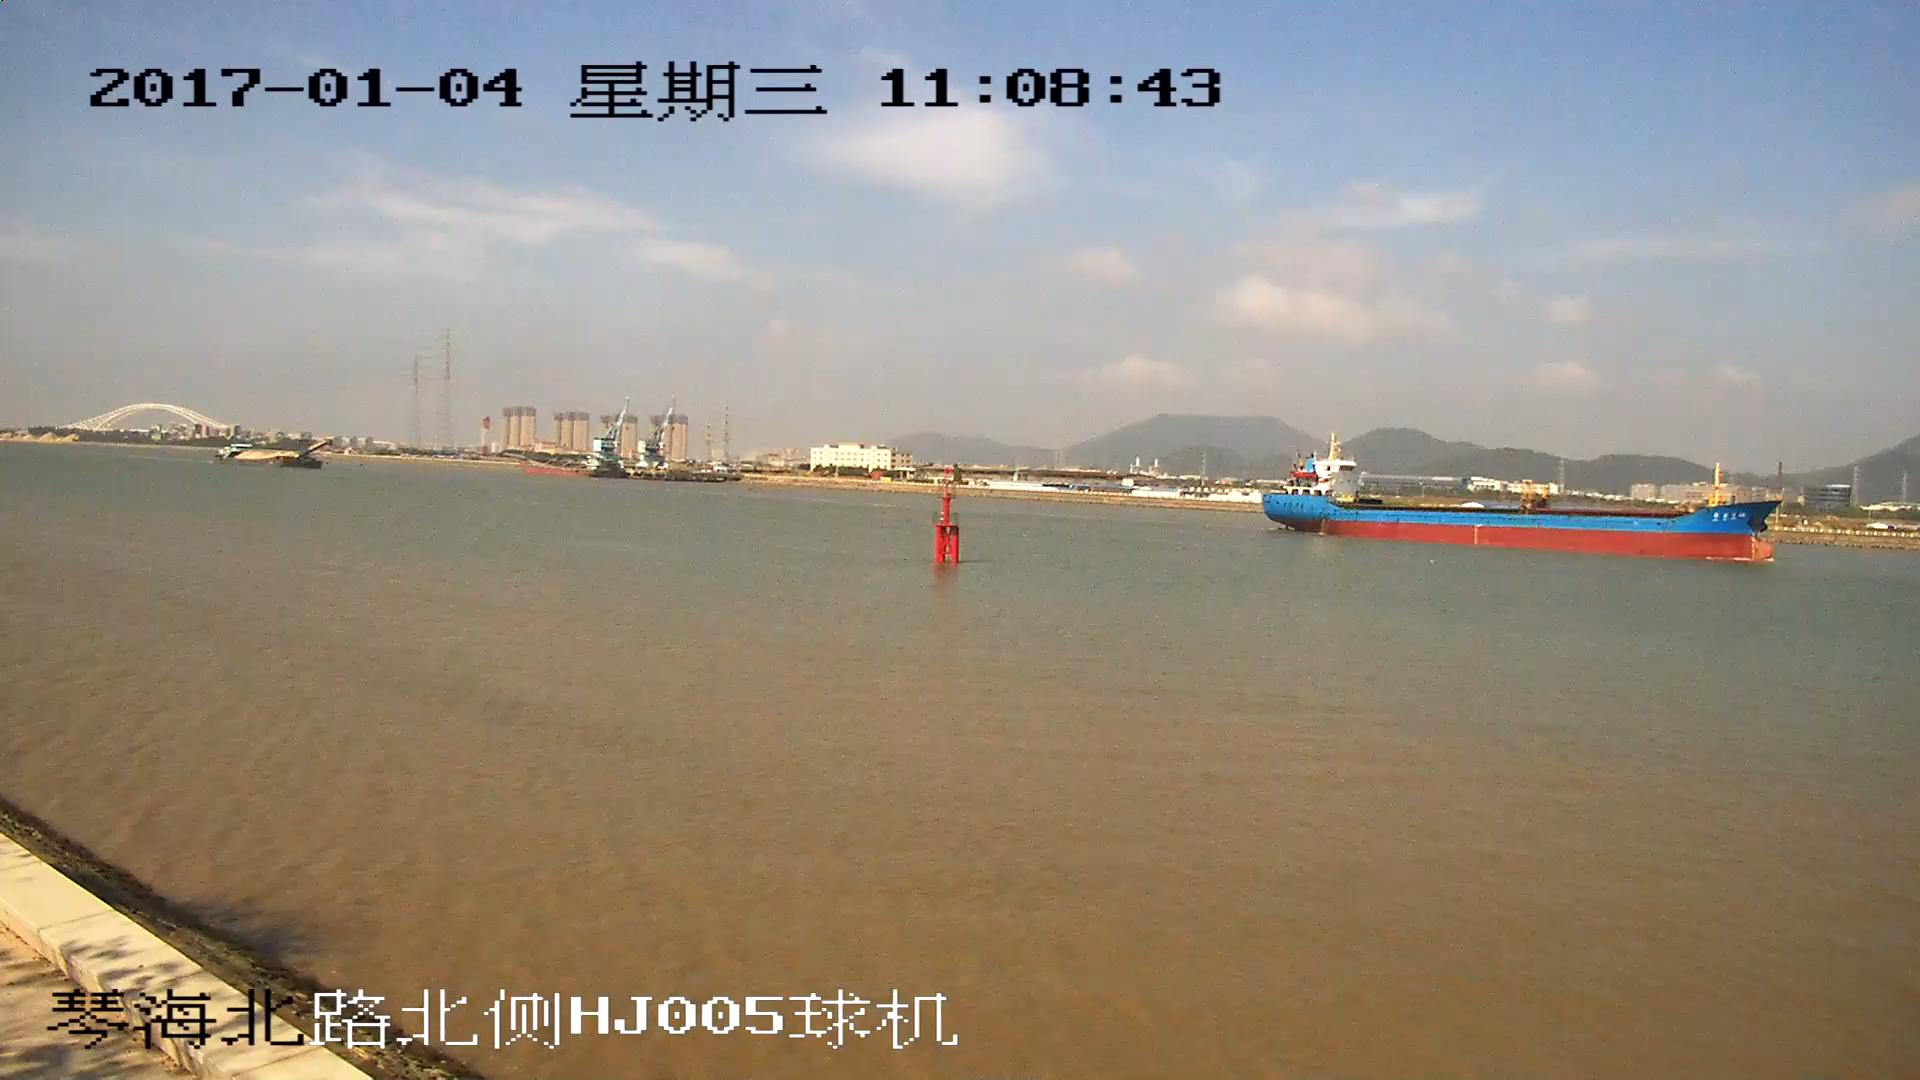general cargo ship: (1263, 442, 1781, 563)
